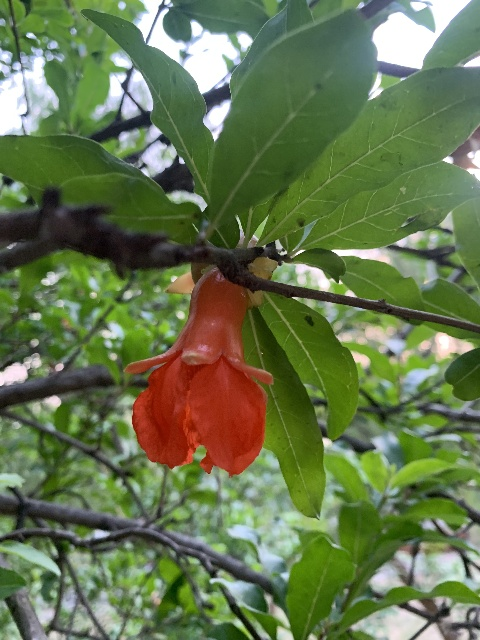flower: (125, 270, 273, 477)
